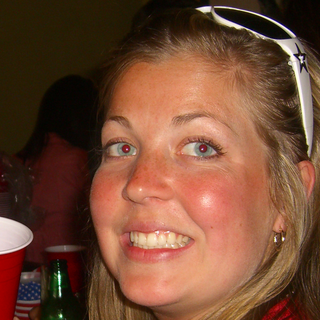eye: (173, 132, 227, 166), (100, 136, 143, 162)
